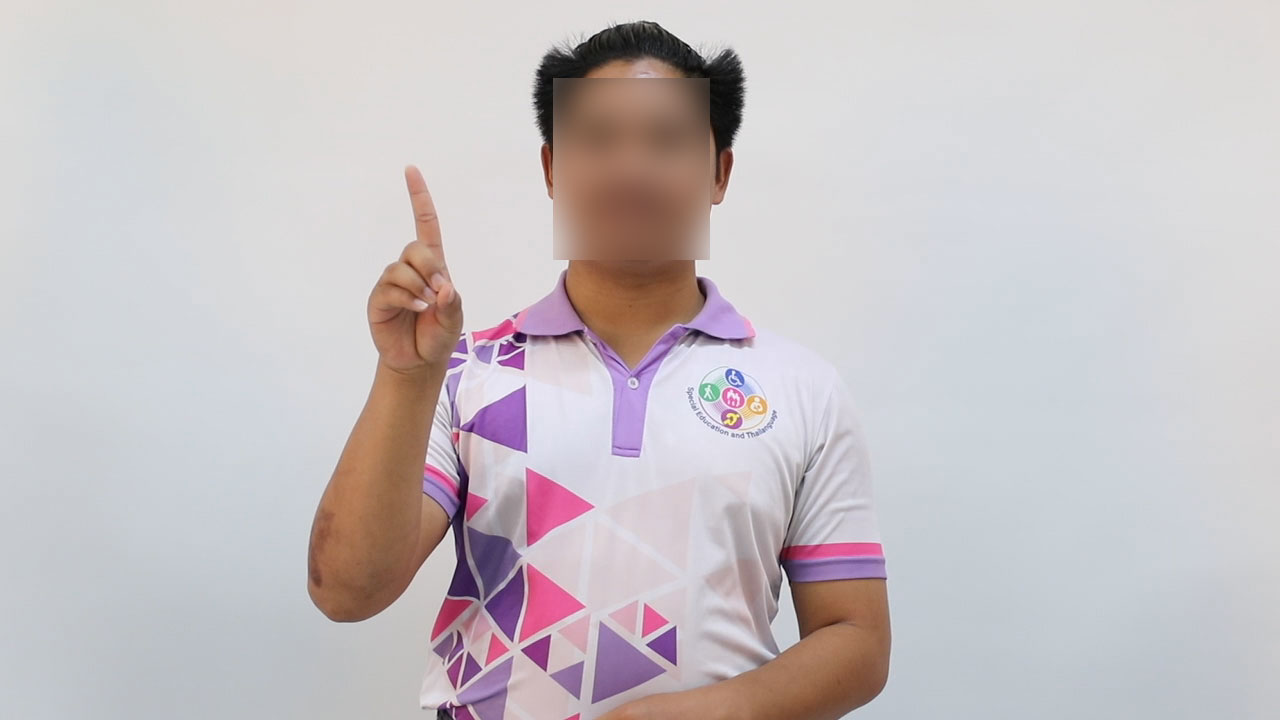dor: (353, 153, 477, 380)
